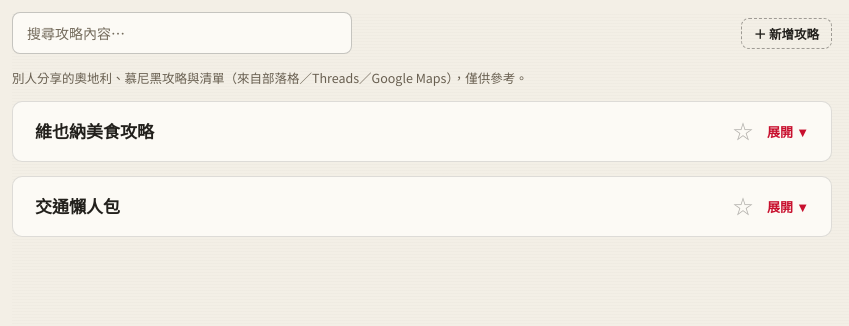
Test case: Guides 就地搜尋 › 預設收合，點擊標題展開內文
The image size is (849, 326).
Click the text "維也納美食攻略" at [94, 132], box [35, 119, 154, 145]
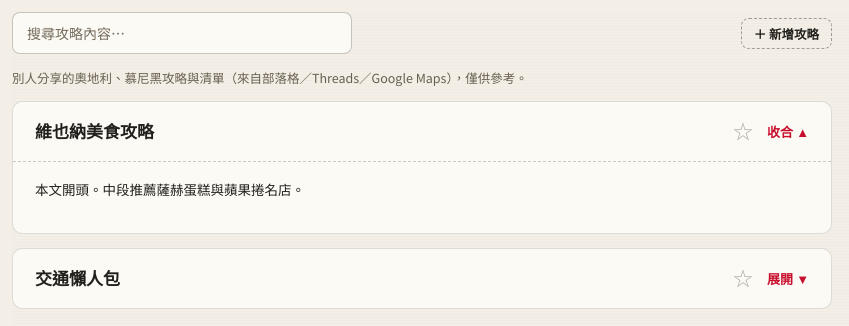
Expected: the element with class "guide-body--open" is shown, [13, 161, 831, 233]
